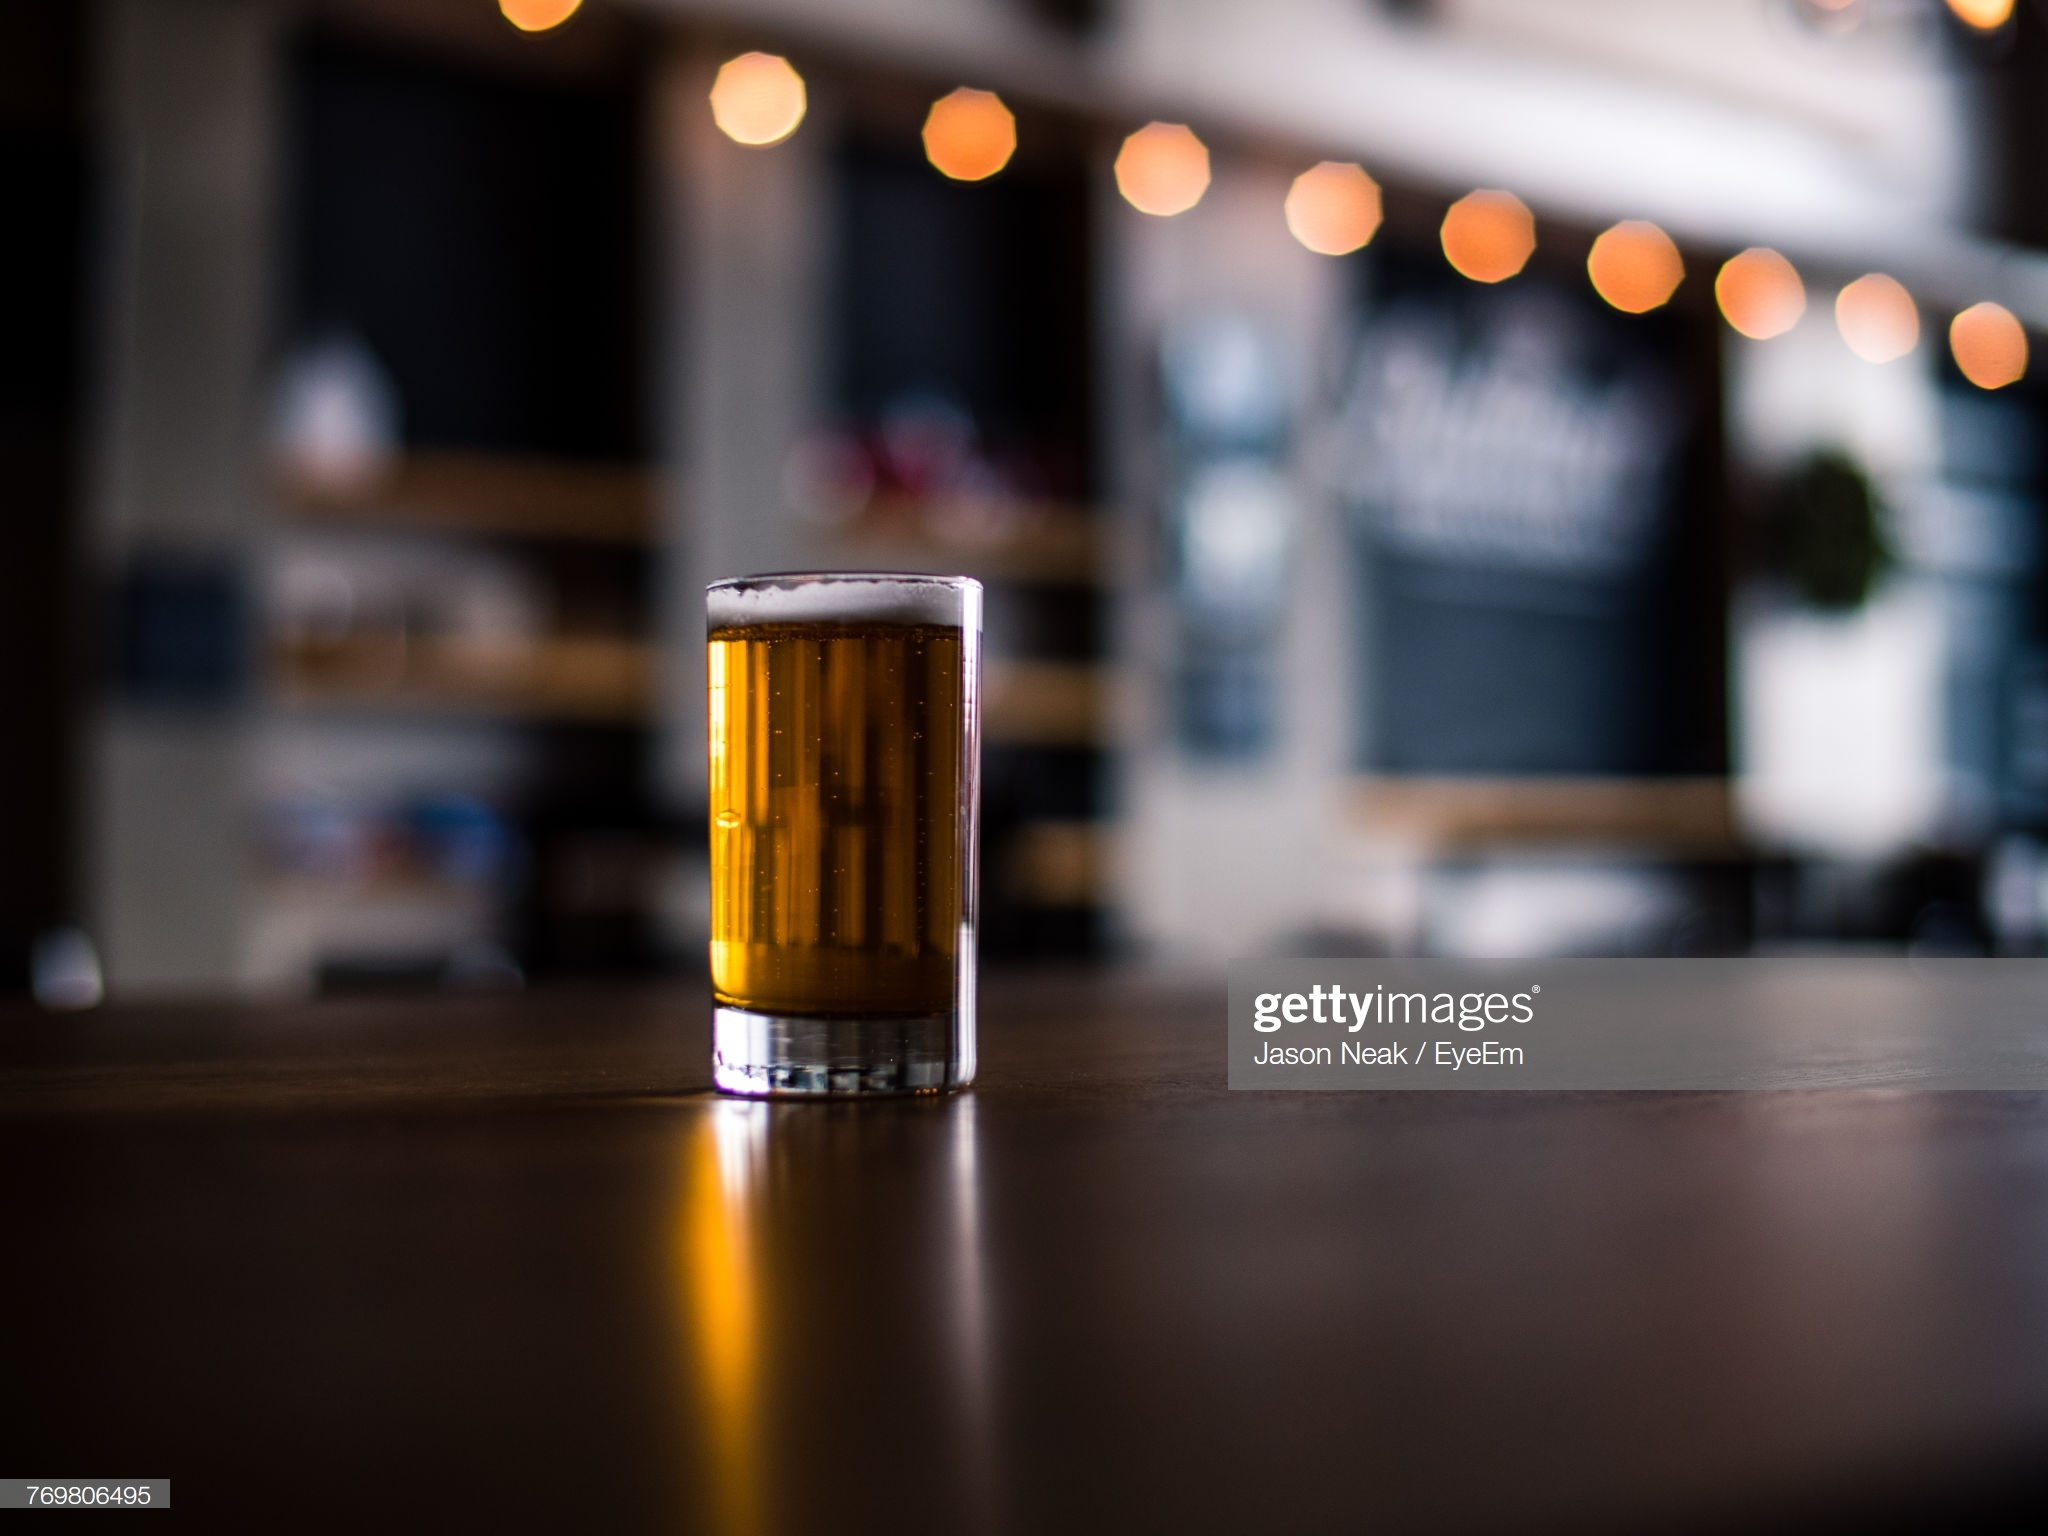glassBeer: (710, 589, 958, 1108)
